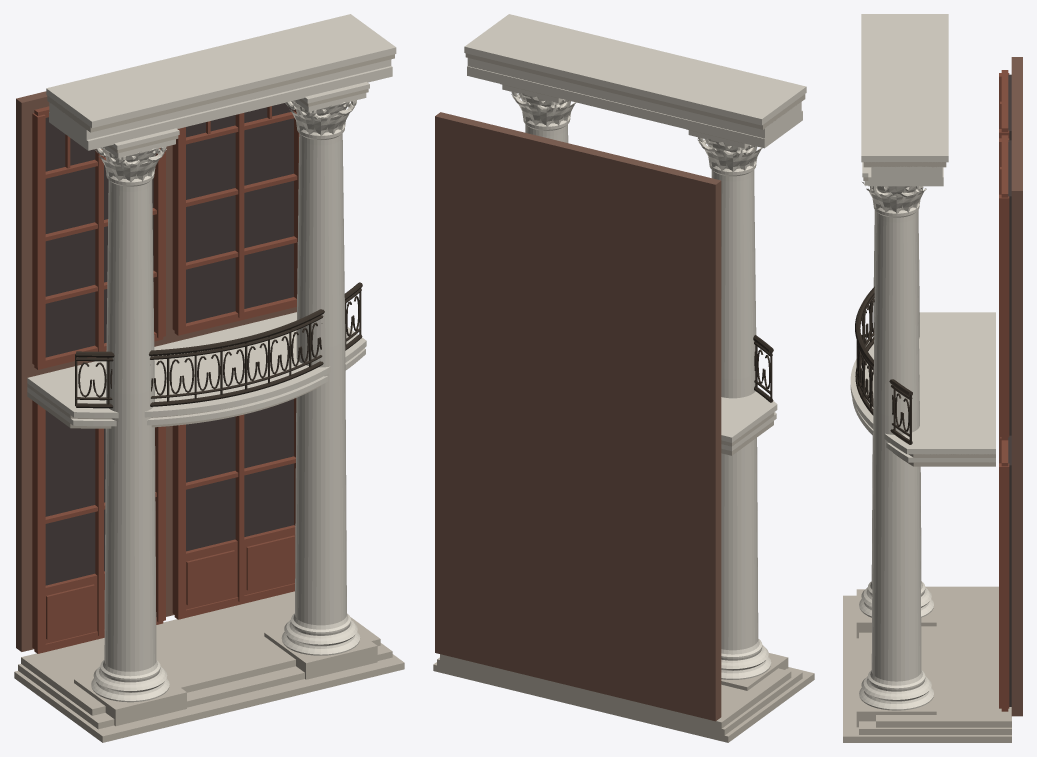
The model's file is hongkou-tang-residence-south-balcony-bay-raw.glb.
3 views of the same model, side by side, from view 1: azimuth 30°, elevation 25°; view 2: azimuth 150°, elevation 25°; view 3: azimuth 270°, elevation 25° (orthographic). The views are drawn at different scales.
Visible parts, largest first — view 1: 原汤公馆南门廊中跨弧形阳台与双柱; view 2: 原汤公馆南门廊中跨弧形阳台与双柱; view 3: 原汤公馆南门廊中跨弧形阳台与双柱.
Boxes of the visible parts, x1,y1,x2,y2 form: 原汤公馆南门廊中跨弧形阳台与双柱: (14, 14, 404, 742); 原汤公馆南门廊中跨弧形阳台与双柱: (433, 14, 814, 742); 原汤公馆南门廊中跨弧形阳台与双柱: (843, 14, 1022, 742).
Bounding box in the file's own units: 3.58 × 6.9 × 1.92.
